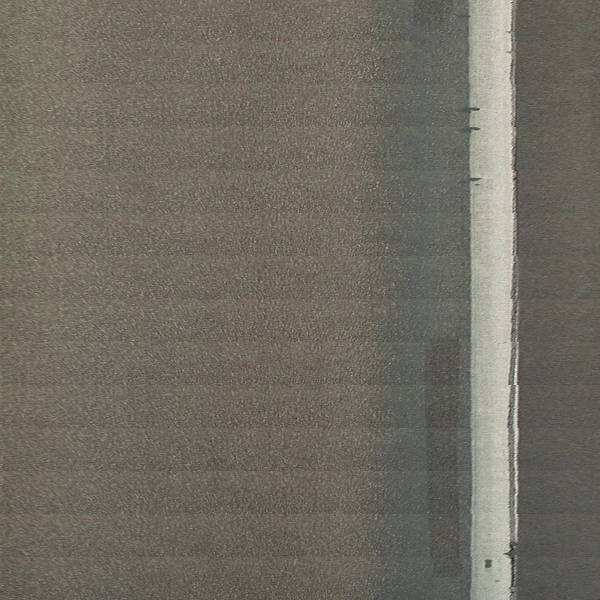road_damage: (454, 100, 489, 143)
